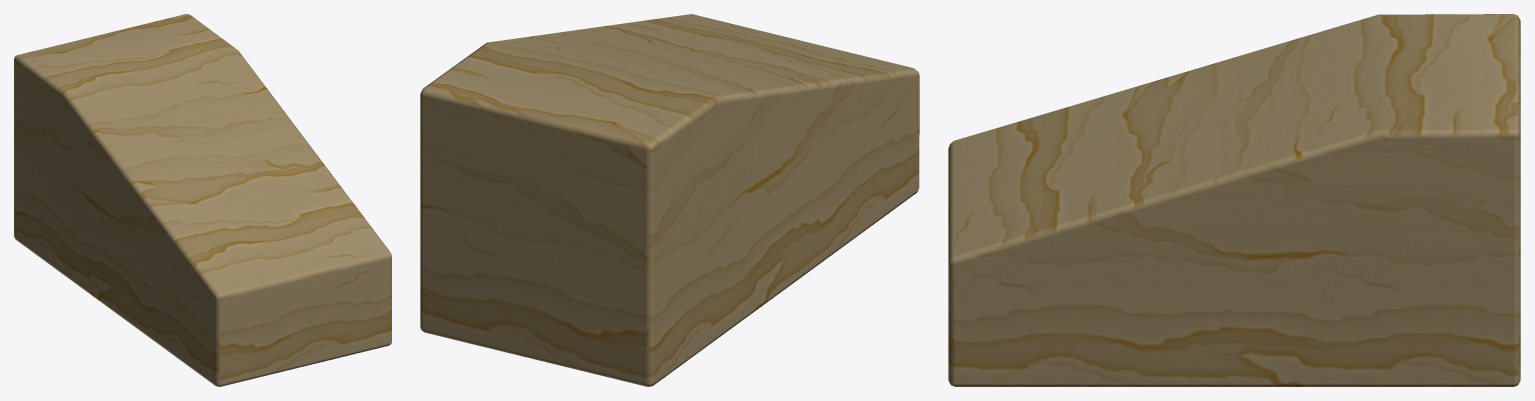
The model's file is SM_Platform_2m_04_B_Ramp.glb.
The picture shows the model from 3 angles, left to right: view 1: azimuth 30°, elevation 25°; view 2: azimuth 150°, elevation 25°; view 3: azimuth 270°, elevation 25°; orthographic projection. The views are drawn at different scales.
Visible parts, largest first — view 1: SM_Platform_2m_04_B_Ramp; view 2: SM_Platform_2m_04_B_Ramp; view 3: SM_Platform_2m_04_B_Ramp.
Part boxes in pixels (x1,y1,x2,y2): SM_Platform_2m_04_B_Ramp: [14, 14, 391, 386]; SM_Platform_2m_04_B_Ramp: [420, 14, 919, 386]; SM_Platform_2m_04_B_Ramp: [948, 14, 1520, 386].
Bounding box in the file's own units: 2 × 2 × 4.01.
1 material, 1 textured.
